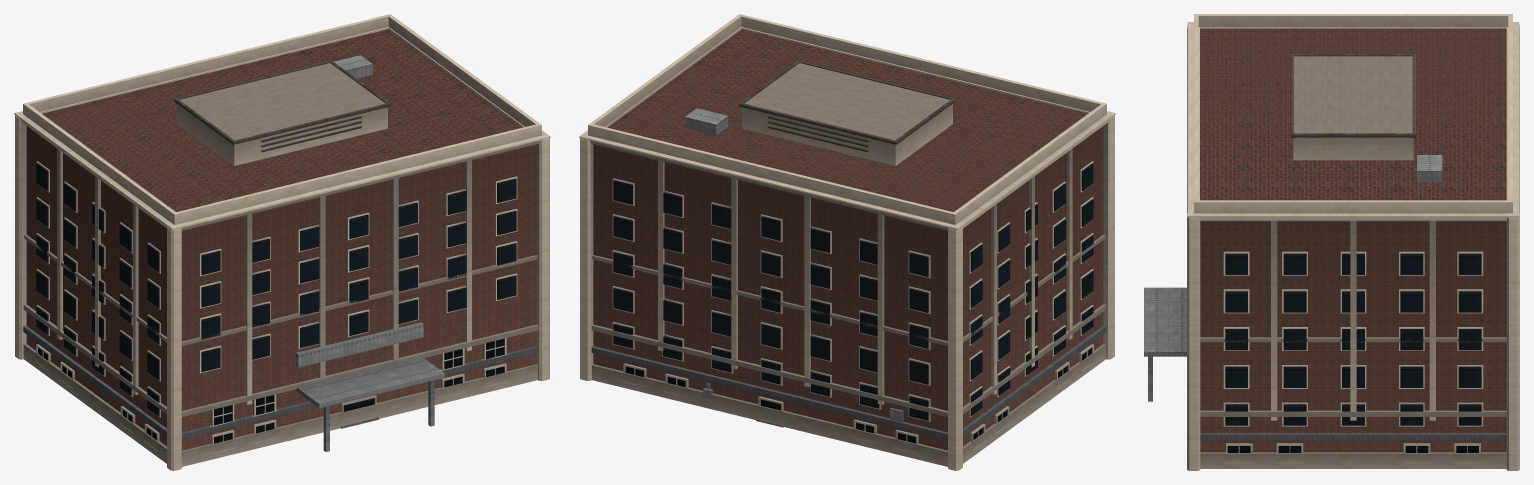
The model's file is cass-medical-center_lod0.gltf.
The picture shows the model from 3 angles, left to right: view 1: azimuth 30°, elevation 25°; view 2: azimuth 150°, elevation 25°; view 3: azimuth 270°, elevation 25°; orthographic projection. The views are drawn at different scales.
Parts seen in each view (by area): view 1: cass-medical-center_main, cass-medical-center__v4_stone_detail, cass-medical-center_fen_07-glass-curtain-blue_1_t, cass-medical-center__parapet, cass-medical-center_fen_04-limestone_0, cass-medical-center__dropoff_canopy, cass-medical-center__trim_band, cass-medical-center__v4_metal_detail, cass-medical-center__sign_band, cass-medical-center__hvac; view 2: cass-medical-center_main, cass-medical-center__v4_stone_detail, cass-medical-center__parapet, cass-medical-center_fen_07-glass-curtain-blue_1_t, cass-medical-center_fen_04-limestone_0, cass-medical-center__trim_band, cass-medical-center__v4_metal_detail, cass-medical-center__hvac; view 3: cass-medical-center_main, cass-medical-center__v4_stone_detail, cass-medical-center__parapet, cass-medical-center_fen_07-glass-curtain-blue_1_t, cass-medical-center_fen_04-limestone_0, cass-medical-center__dropoff_canopy, cass-medical-center__trim_band, cass-medical-center__v4_metal_detail, cass-medical-center__hvac.
Part boxes in pixels (bbox=[...]): cass-medical-center_main: bbox=[26, 29, 536, 450]; cass-medical-center__v4_stone_detail: bbox=[14, 14, 550, 470]; cass-medical-center_fen_07-glass-curtain-blue_1_t: bbox=[36, 163, 516, 443]; cass-medical-center__parapet: bbox=[42, 30, 537, 230]; cass-medical-center_fen_04-limestone_0: bbox=[35, 161, 517, 454]; cass-medical-center__dropoff_canopy: bbox=[295, 357, 444, 408]; cass-medical-center__trim_band: bbox=[23, 325, 538, 439]; cass-medical-center__v4_metal_detail: bbox=[174, 60, 390, 152]; cass-medical-center__sign_band: bbox=[296, 322, 423, 367]; cass-medical-center__hvac: bbox=[334, 55, 372, 78]; cass-medical-center_main: bbox=[593, 29, 1103, 450]; cass-medical-center__v4_stone_detail: bbox=[579, 14, 1115, 470]; cass-medical-center__parapet: bbox=[592, 30, 1087, 230]; cass-medical-center_fen_07-glass-curtain-blue_1_t: bbox=[613, 163, 1093, 443]; cass-medical-center_fen_04-limestone_0: bbox=[612, 161, 1094, 454]; cass-medical-center__trim_band: bbox=[591, 325, 1106, 439]; cass-medical-center__v4_metal_detail: bbox=[739, 60, 955, 152]; cass-medical-center__hvac: bbox=[685, 108, 728, 135]; cass-medical-center_main: bbox=[1200, 29, 1506, 452]; cass-medical-center__v4_stone_detail: bbox=[1187, 14, 1519, 470]; cass-medical-center__parapet: bbox=[1200, 29, 1506, 221]; cass-medical-center_fen_07-glass-curtain-blue_1_t: bbox=[1225, 253, 1481, 452]; cass-medical-center_fen_04-limestone_0: bbox=[1223, 251, 1483, 463]; cass-medical-center__dropoff_canopy: bbox=[1144, 287, 1186, 356]; cass-medical-center__trim_band: bbox=[1200, 433, 1506, 440]; cass-medical-center__v4_metal_detail: bbox=[1291, 54, 1415, 138]; cass-medical-center__hvac: bbox=[1417, 155, 1442, 182].
Size of the model in its own units: 36.23 by 24.3 by 29.61.
